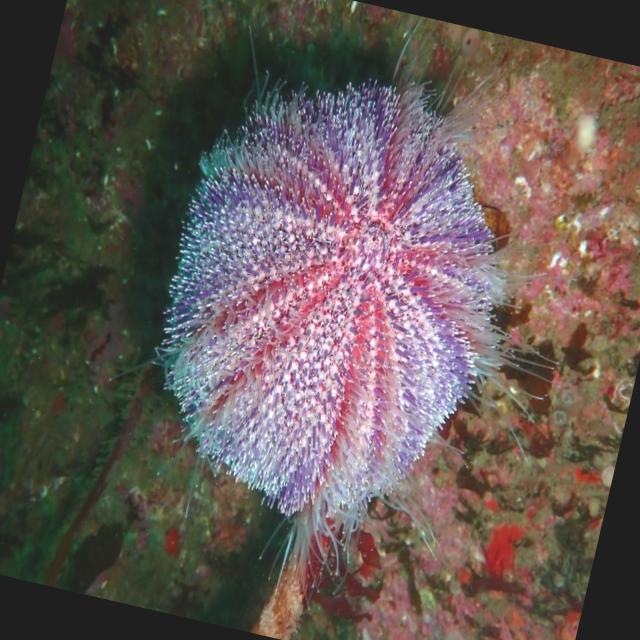Deniz Kestanesi: (104, 0, 625, 640)
